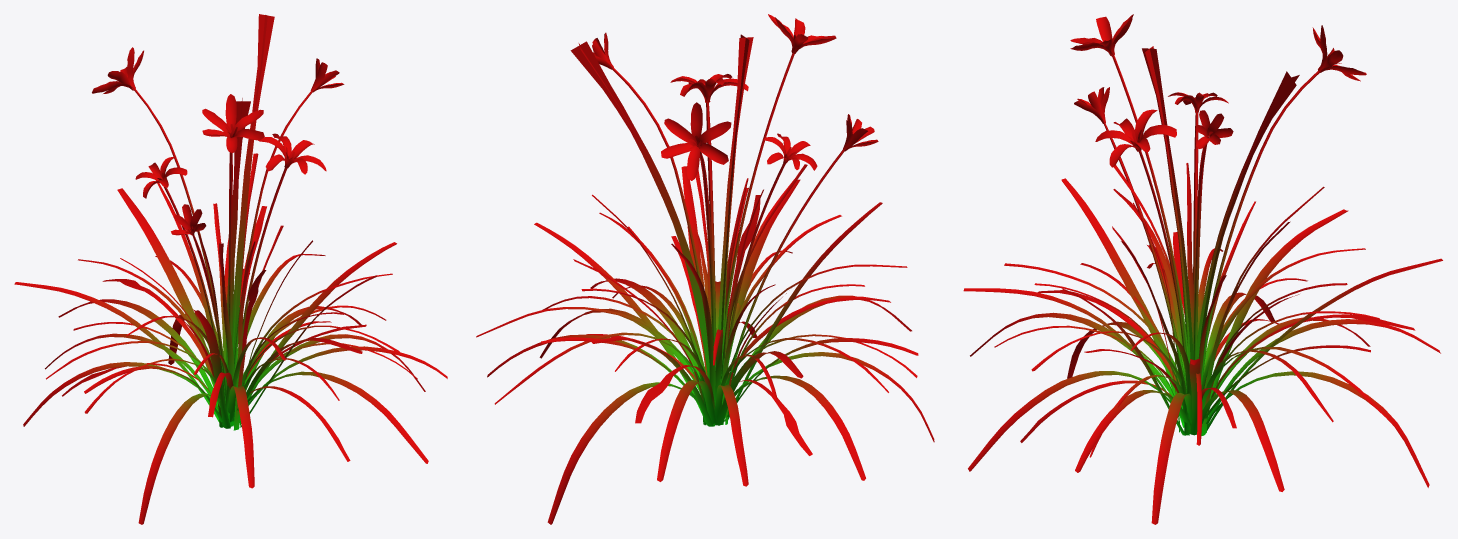
The model's file is White Windflower_LOD0_Var2_sktlN.fbx.
3 renders of one model, left to right at view 1: azimuth 30°, elevation 25°; view 2: azimuth 150°, elevation 25°; view 3: azimuth 270°, elevation 25°, orthographic. The views are drawn at different scales.
Parts seen in each view (by area): view 1: _b7b1_Var2_LOD0; view 2: _b7b1_Var2_LOD0; view 3: _b7b1_Var2_LOD0.
Part boxes in pixels (x1=…): _b7b1_Var2_LOD0: x1=14, y1=14, x2=447, y2=524; _b7b1_Var2_LOD0: x1=476, y1=14, x2=934, y2=524; _b7b1_Var2_LOD0: x1=963, y1=14, x2=1442, y2=524.
Bounding box in the file's own units: 73.2 × 77.91 × 78.12.
